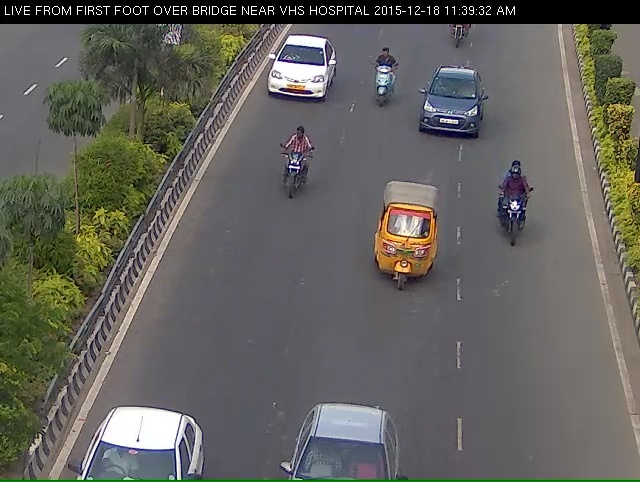Car: (366, 189, 445, 314), (258, 40, 337, 115), (286, 434, 402, 482), (423, 67, 485, 149)
Person: (498, 174, 536, 269), (273, 139, 306, 213), (372, 50, 396, 112)
